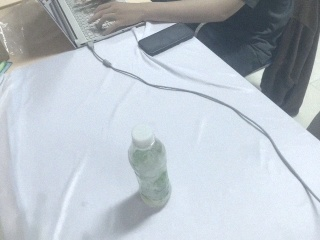bottle: (127, 123, 173, 208)
phone: (137, 21, 200, 58)
